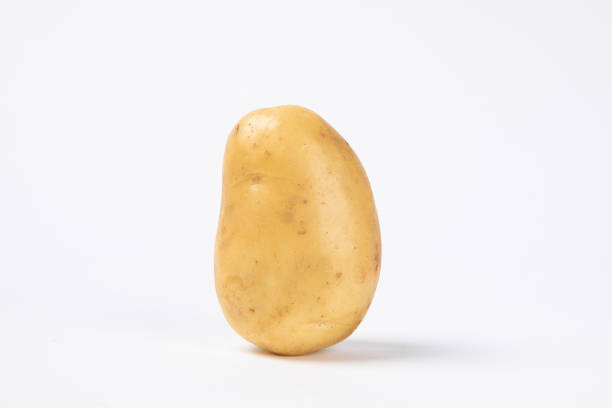potato: (208, 84, 384, 358)
